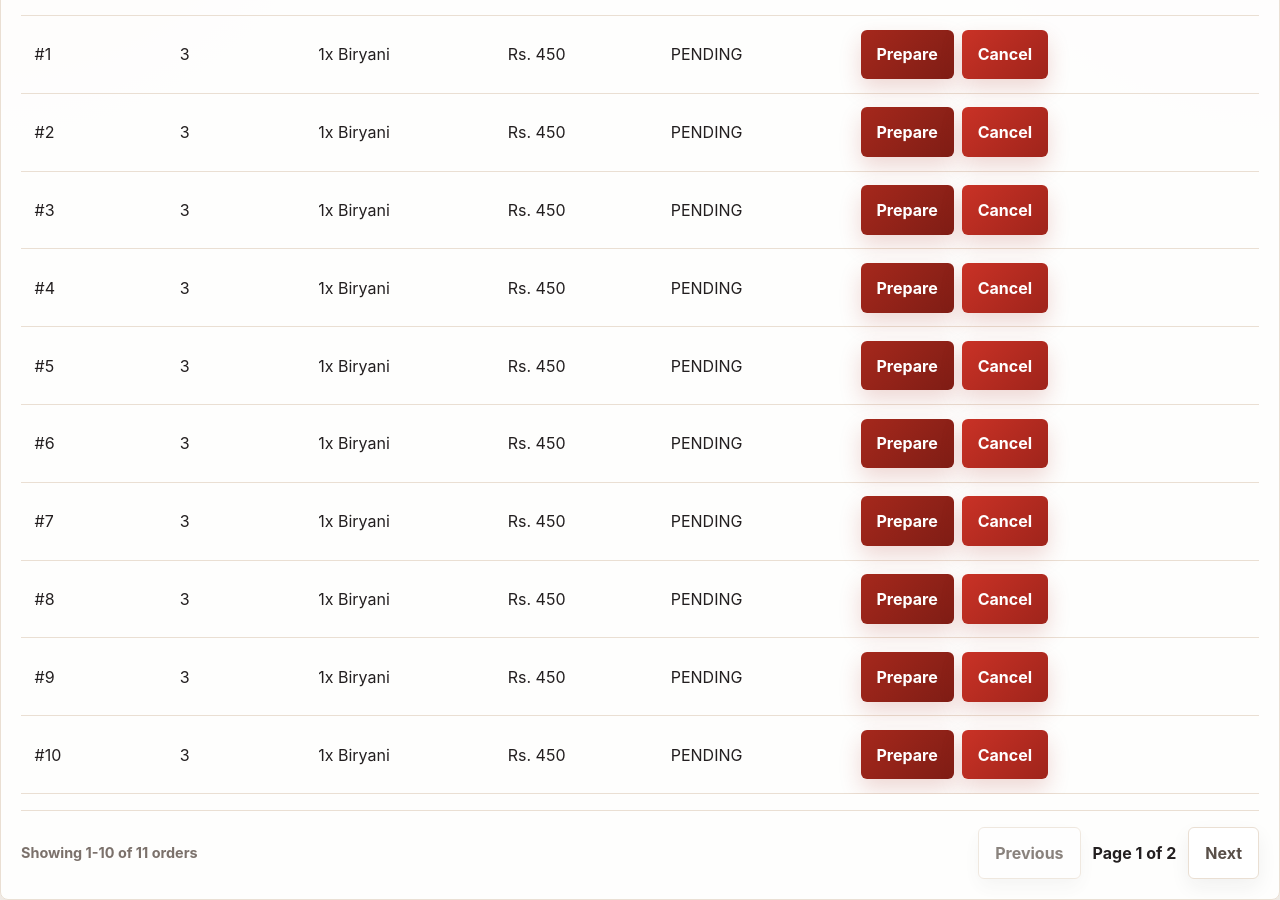
Test: OrdersPage › paginates large order lists
The width and height of the screenshot is (1280, 900).
(page scrolled)
Expected: the text "#1" is shown, 21,16 -> 166,93
Expected: the text "#11" is not shown
Click the button "Next": (1224, 853) 1188,827 -> 1259,878
(page scrolled)
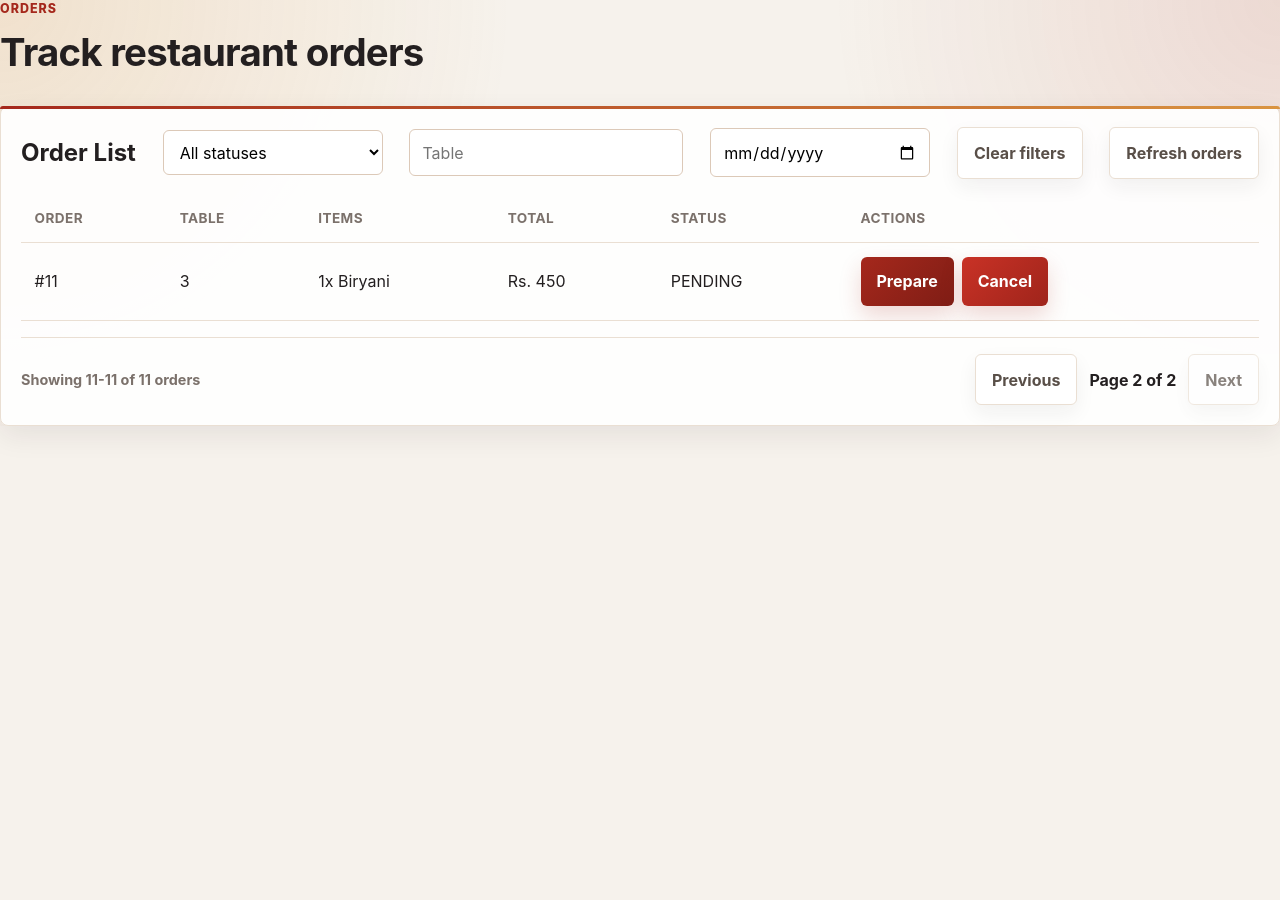
Now the text "#11" is shown, box 21,243 -> 166,320
